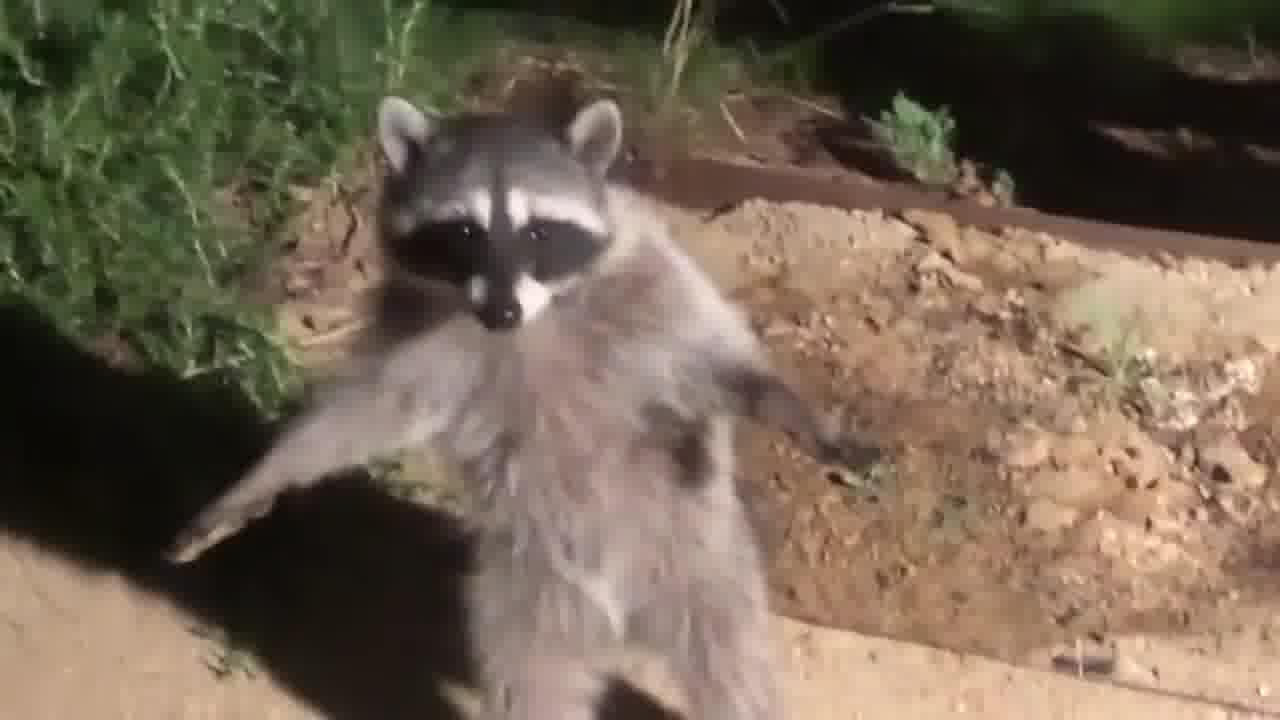raccoon: (175, 93, 883, 720)
